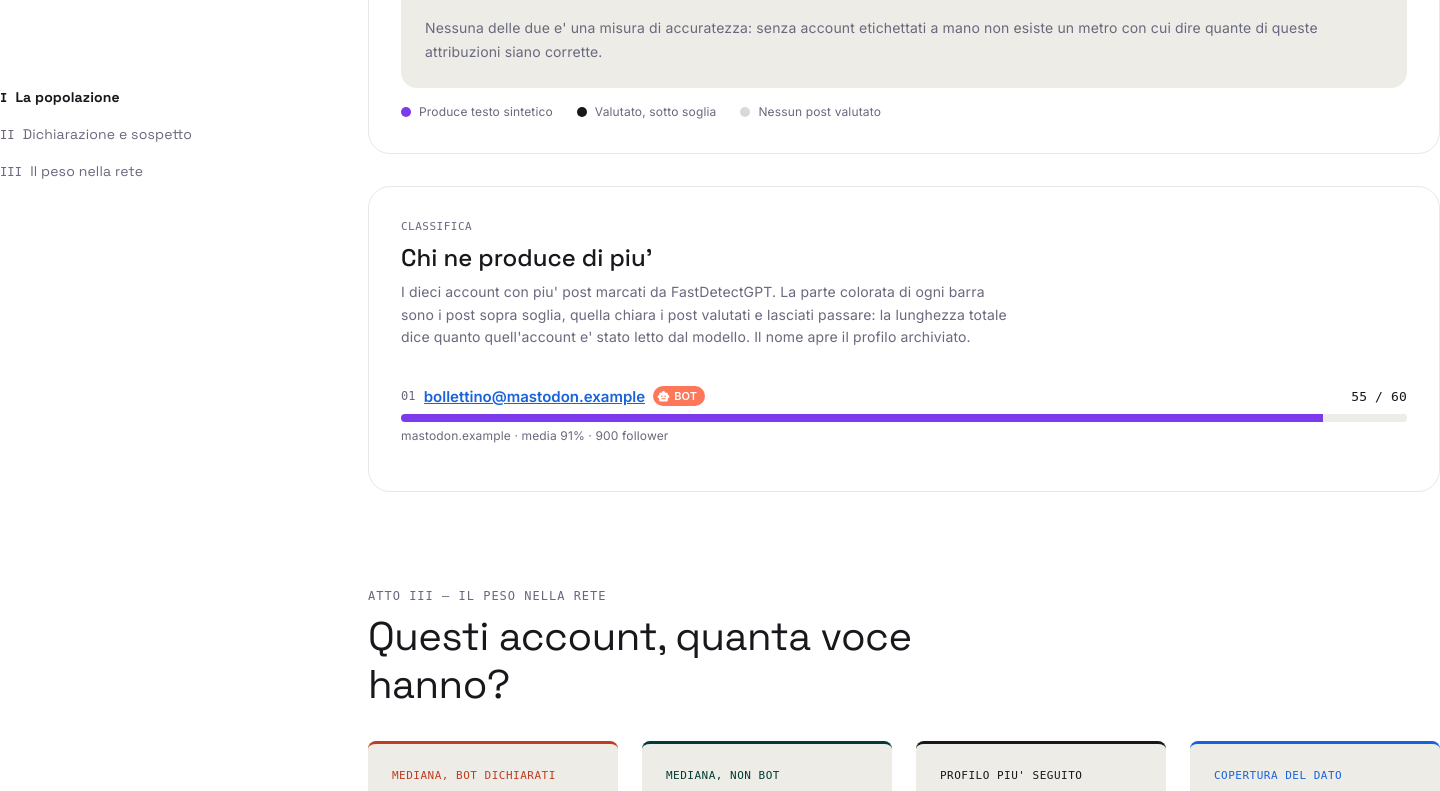
Test: Accounts › apre il profilo archiviato di un produttore
(page scrolled)
Click the button "bollettino@mastodon.example" at (534, 396), box x1=424 y1=387 x2=645 y2=406
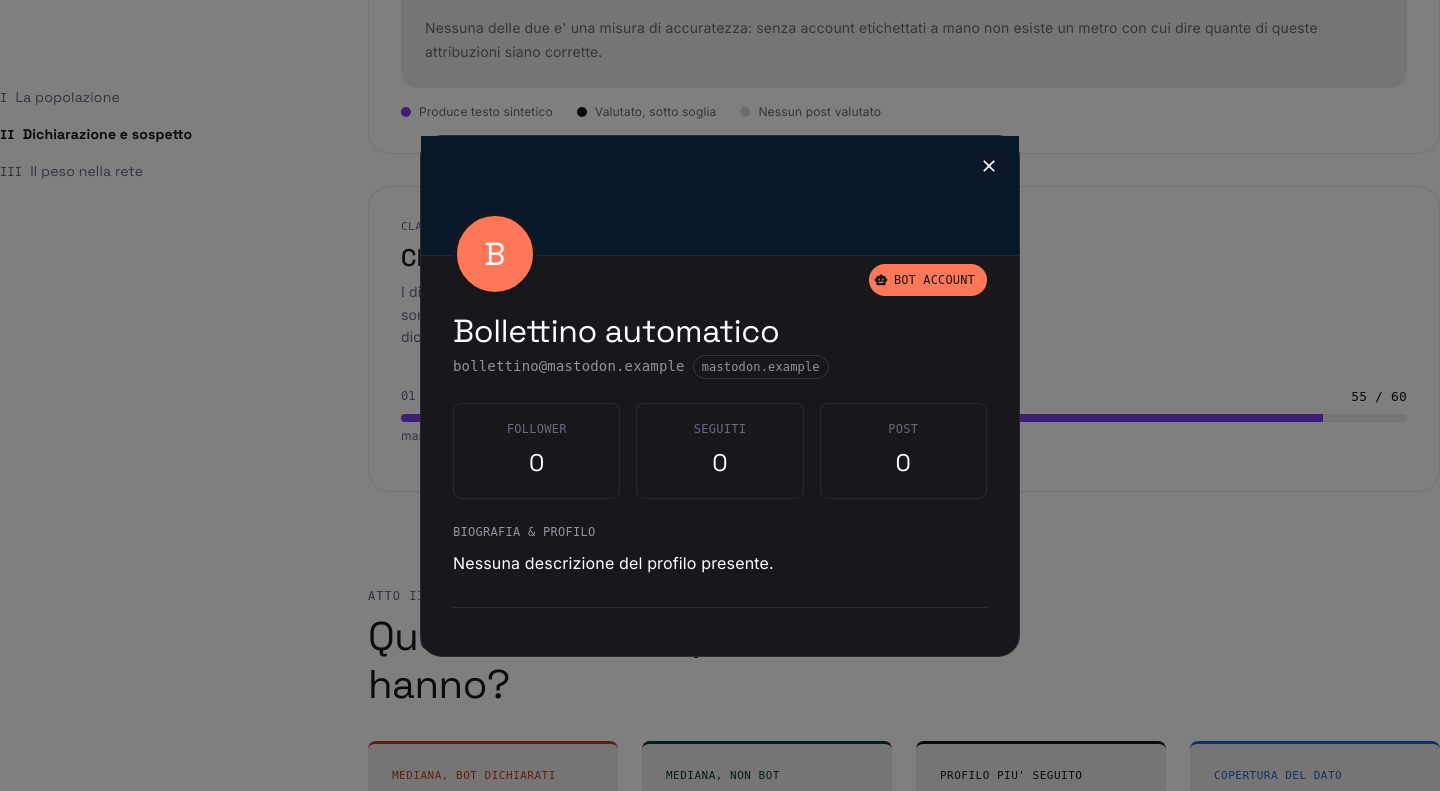
Result: the heading "Bollettino automatico" is shown at x1=453 y1=311 x2=780 y2=351
